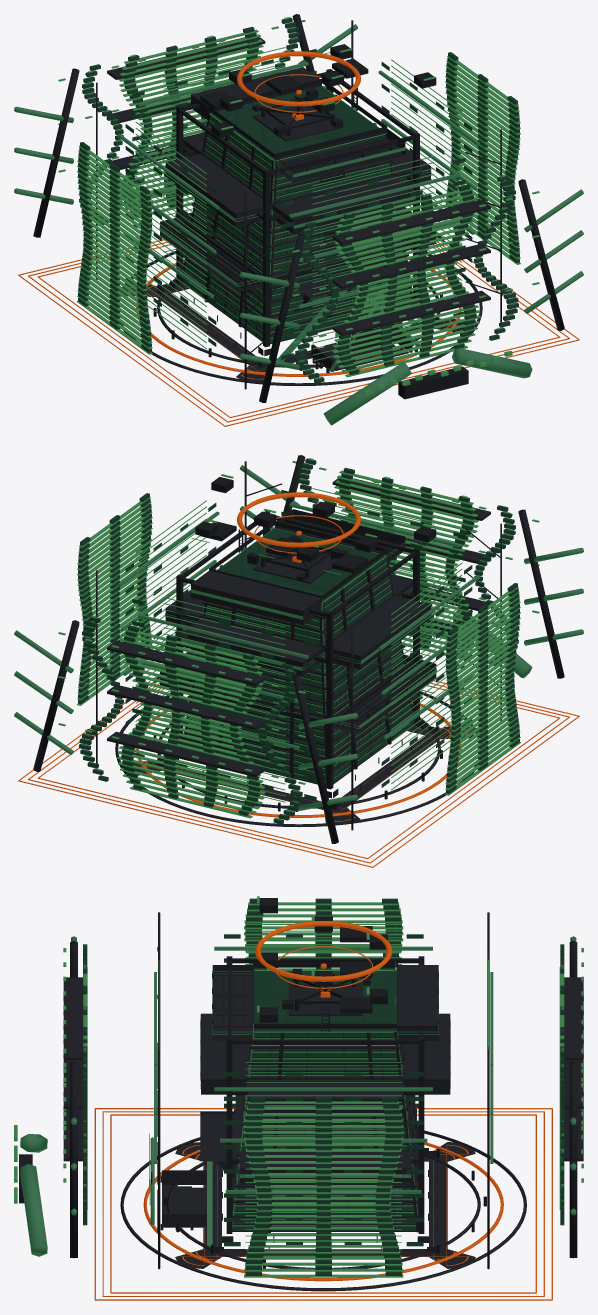
Rendered from fitness-ext-hero.glb.
The picture shows the model from 3 angles, top to bottom: view 1: azimuth 30°, elevation 25°; view 2: azimuth 150°, elevation 25°; view 3: azimuth 270°, elevation 25°; orthographic projection. The views are drawn at different scales.
Visible parts, largest first — view 1: fitness_s86_emissive_hero_mesh, fitness_s86_base_hero_mesh, fitness_s86_glass_hero_mesh, fitness_s86_detail_hero_mesh, fitness_s86_accent_hero_mesh, fitness_s86_energy_hero_mesh, fitness_s86_holo_hero_mesh; view 2: fitness_s86_emissive_hero_mesh, fitness_s86_base_hero_mesh, fitness_s86_glass_hero_mesh, fitness_s86_detail_hero_mesh, fitness_s86_accent_hero_mesh, fitness_s86_energy_hero_mesh, fitness_s86_holo_hero_mesh; view 3: fitness_s86_base_hero_mesh, fitness_s86_emissive_hero_mesh, fitness_s86_glass_hero_mesh, fitness_s86_detail_hero_mesh, fitness_s86_energy_hero_mesh, fitness_s86_accent_hero_mesh.
Part boxes in pixels (x1,y1,x2,y2): fitness_s86_emissive_hero_mesh: [58, 20, 539, 395]; fitness_s86_base_hero_mesh: [107, 37, 490, 385]; fitness_s86_glass_hero_mesh: [78, 17, 519, 383]; fitness_s86_detail_hero_mesh: [33, 14, 564, 402]; fitness_s86_accent_hero_mesh: [14, 24, 583, 425]; fitness_s86_energy_hero_mesh: [18, 51, 579, 426]; fitness_s86_holo_hero_mesh: [85, 17, 516, 379]; fitness_s86_emissive_hero_mesh: [58, 461, 539, 818]; fitness_s86_base_hero_mesh: [107, 478, 490, 826]; fitness_s86_glass_hero_mesh: [78, 458, 519, 824]; fitness_s86_detail_hero_mesh: [33, 455, 564, 843]; fitness_s86_accent_hero_mesh: [14, 465, 583, 810]; fitness_s86_energy_hero_mesh: [18, 492, 579, 867]; fitness_s86_holo_hero_mesh: [81, 458, 512, 820]; fitness_s86_base_hero_mesh: [63, 965, 583, 1291]; fitness_s86_emissive_hero_mesh: [14, 896, 583, 1277]; fitness_s86_glass_hero_mesh: [83, 898, 564, 1275]; fitness_s86_detail_hero_mesh: [19, 898, 577, 1269]; fitness_s86_energy_hero_mesh: [94, 921, 552, 1300]; fitness_s86_accent_hero_mesh: [20, 936, 576, 1256].
Bounding box in the file's own units: 25.26 × 15.15 × 30.32.
